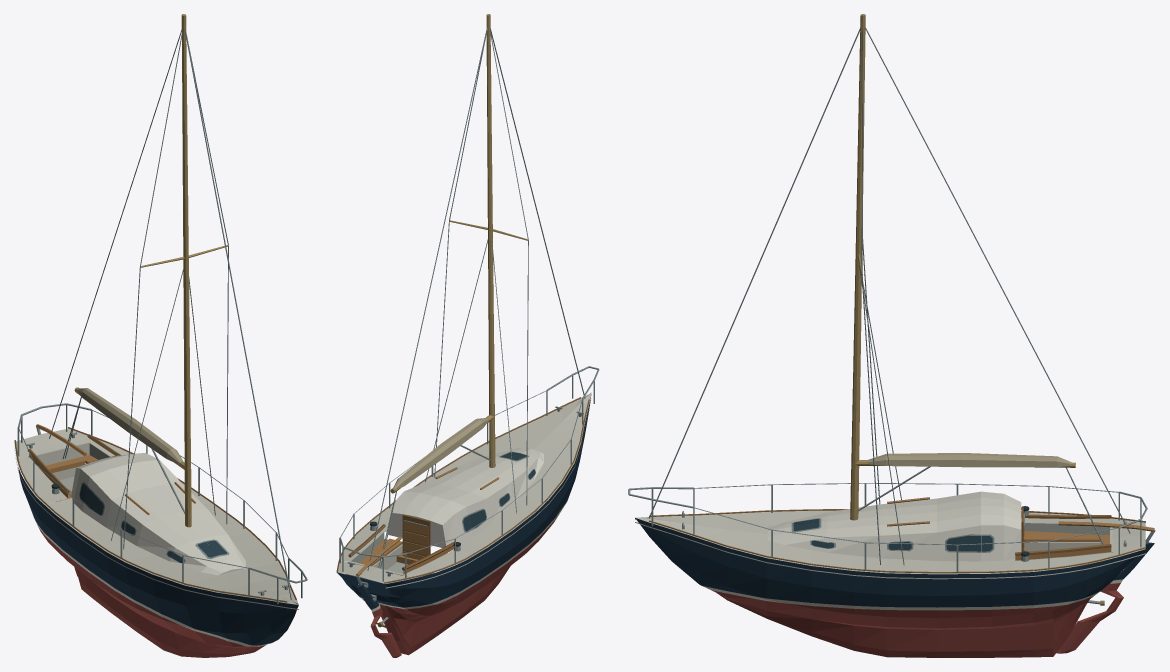
The model's file is KJP_Contessa26.glb.
The picture shows the model from 3 angles, left to right: view 1: azimuth 30°, elevation 25°; view 2: azimuth 150°, elevation 25°; view 3: azimuth 270°, elevation 25°; orthographic projection. The views are drawn at different scales.
Parts seen in each view (by area): view 1: KJP_Contessa26; view 2: KJP_Contessa26; view 3: KJP_Contessa26.
Part boxes in pixels (<box>): KJP_Contessa26: <box>14,14,307,657</box>; KJP_Contessa26: <box>336,14,599,657</box>; KJP_Contessa26: <box>628,14,1155,657</box>.
Size of the model in its own units: 2.29 by 10.72 by 8.02.
